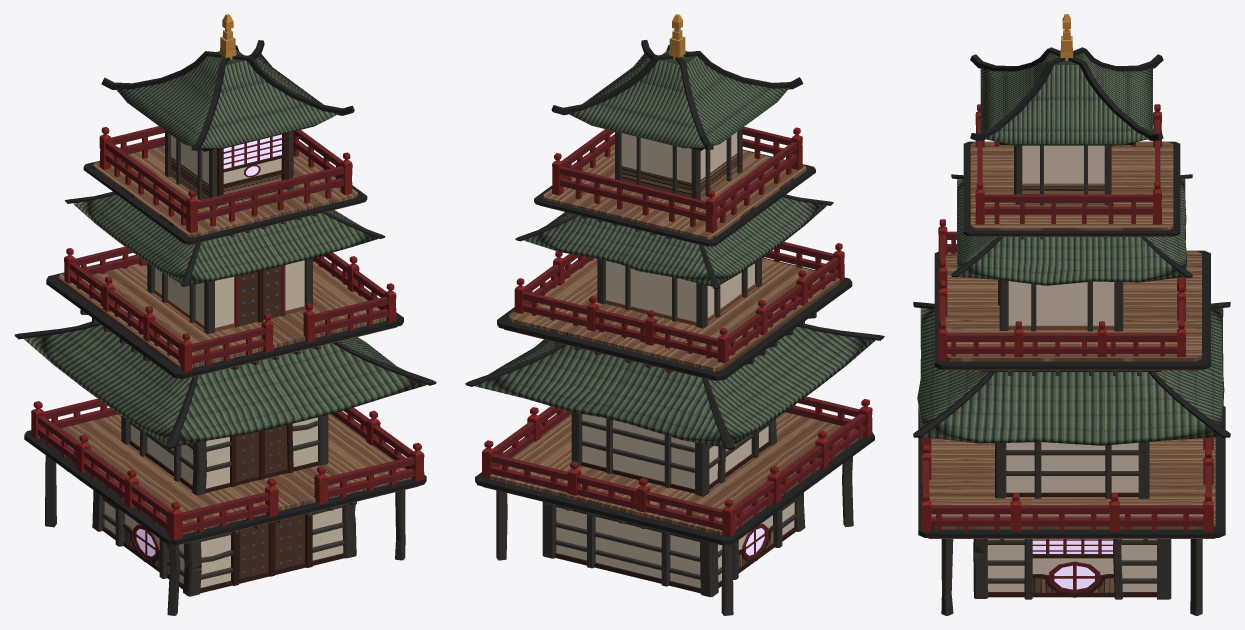
The model's file is Building_Pagoda Asia.fbx.
3 views of the same model, side by side, from view 1: azimuth 30°, elevation 25°; view 2: azimuth 150°, elevation 25°; view 3: azimuth 270°, elevation 25° (orthographic). The views are drawn at different scales.
Visible parts, largest first — view 1: Building_Pagoda; view 2: Building_Pagoda; view 3: Building_Pagoda.
Boxes of the visible parts, x1,y1,x2,y2 form: Building_Pagoda: [14, 14, 436, 615]; Building_Pagoda: [465, 14, 884, 615]; Building_Pagoda: [913, 14, 1230, 615].
Bounding box in the file's own units: 7.76 × 14.62 × 7.76.
